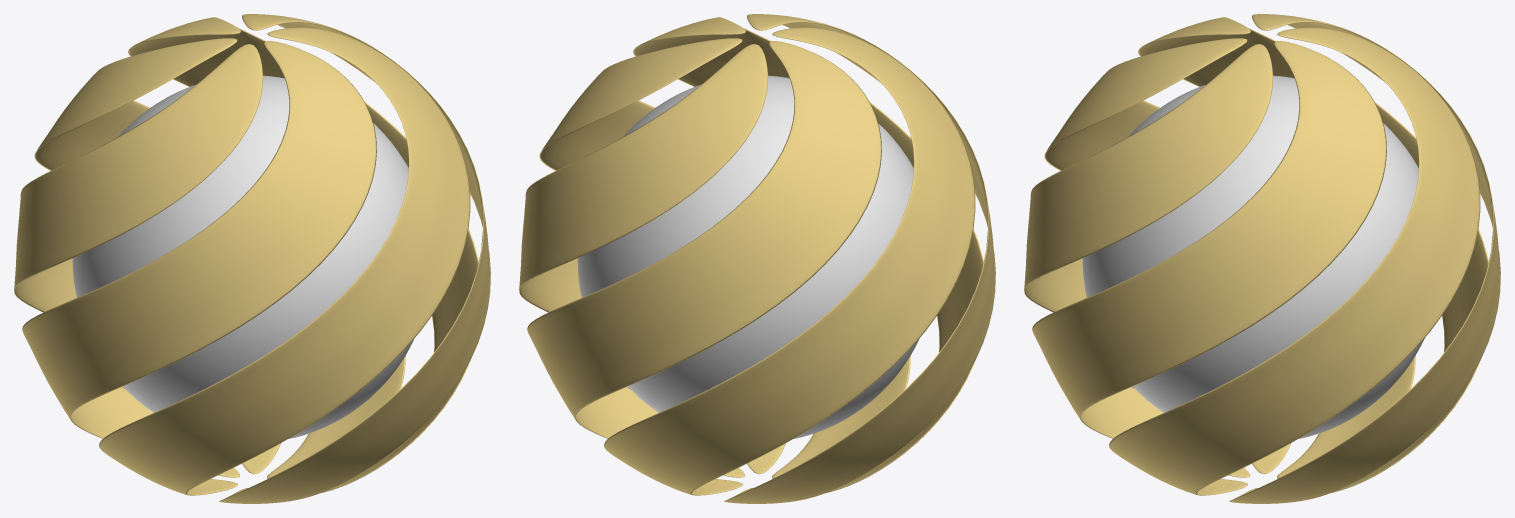
The picture shows the model from 3 angles, left to right: view 1: azimuth 30°, elevation 25°; view 2: azimuth 150°, elevation 25°; view 3: azimuth 270°, elevation 25°; orthographic projection.
Visible parts, largest first — view 1: Sphere_B, Sphere_A; view 2: Sphere_B, Sphere_A; view 3: Sphere_B, Sphere_A.
Boxes of the visible parts, box(x1,y1,x2,y2) form: Sphere_B: box(14, 14, 490, 503); Sphere_A: box(72, 75, 414, 438); Sphere_B: box(519, 14, 995, 503); Sphere_A: box(577, 75, 919, 438); Sphere_B: box(1024, 14, 1500, 503); Sphere_A: box(1082, 75, 1424, 438).
Bounding box in the file's own units: 194 × 198 × 192.
